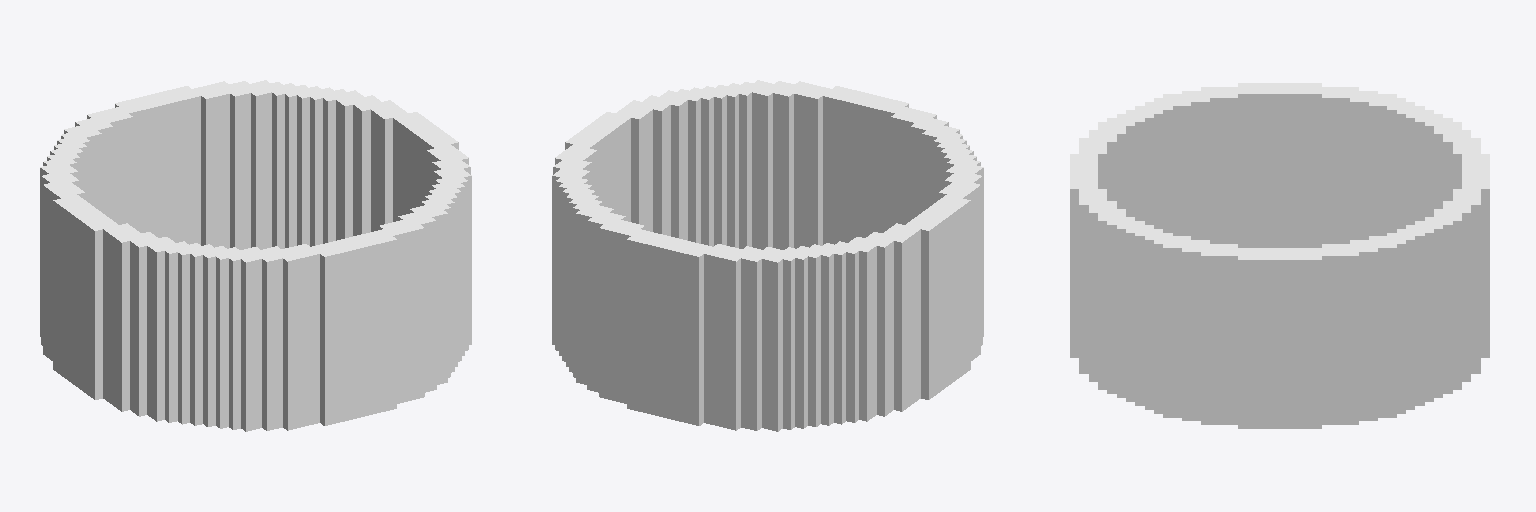
File: Wall3.obj
The picture shows the model from 3 angles: view 1: azimuth 30°, elevation 25°; view 2: azimuth 150°, elevation 25°; view 3: azimuth 270°, elevation 25°; orthographic projection.
Size of the model in its own units: 45 by 20 by 45.